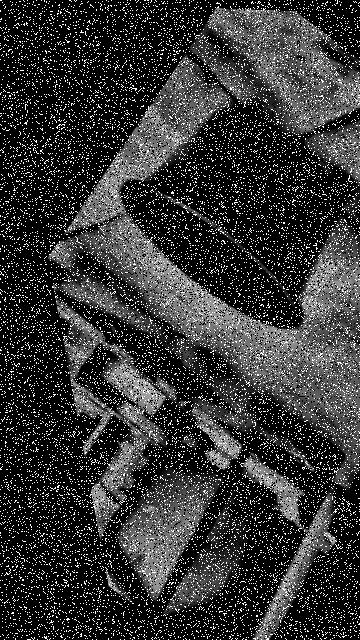pot: (120, 110, 334, 327)
